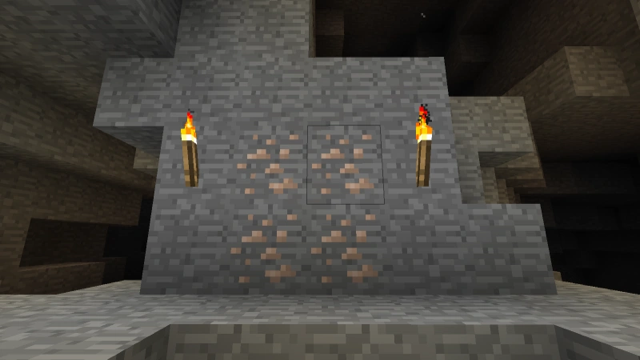iron: (233, 125, 385, 294)
